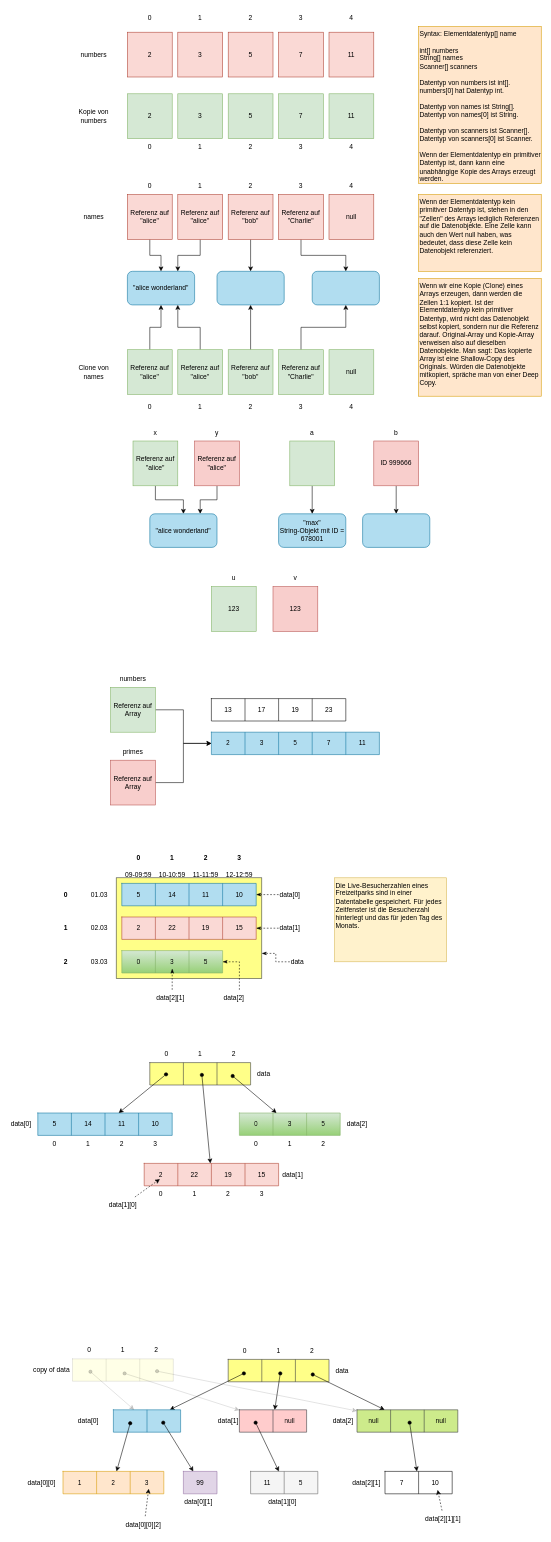
Image size: 551x1542. Some labels were removed from this diagram. Each missing label, with the centre of its shape:
"bob ross": [250,288]
"charlie": [345,288]
"max" String-Objekt mit ID = 999666: [396,530]
ID 678001: [312,463]
